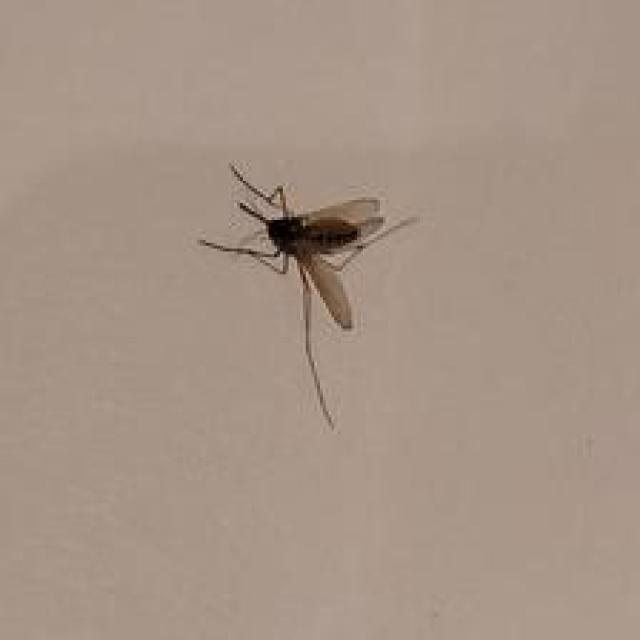Culex: (197, 161, 420, 430)
